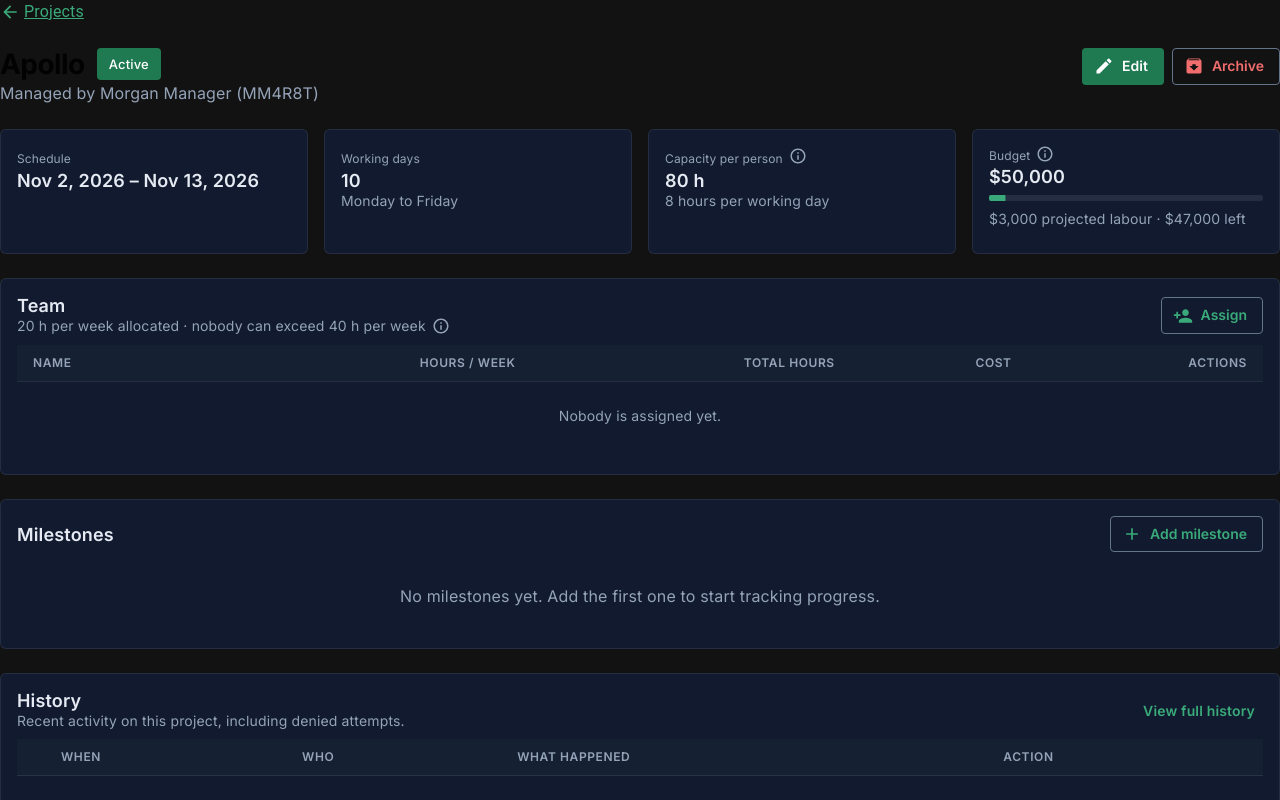
ProjectDetailPage › archives after confirmation and reloads
Click the button "Archive". click: point(1226, 66)
box: [1172, 48, 1279, 84]
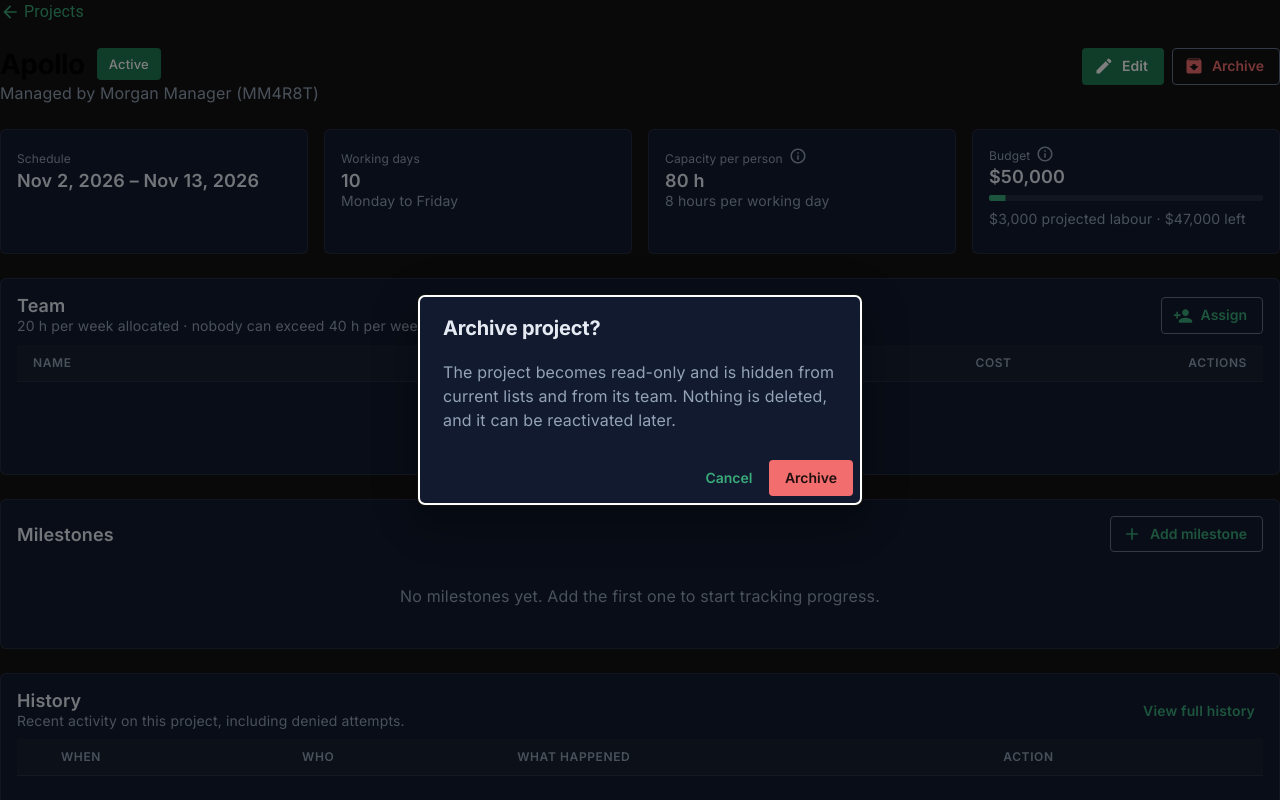
Click the button "Archive". click: point(811, 478)
box: [769, 460, 853, 496]
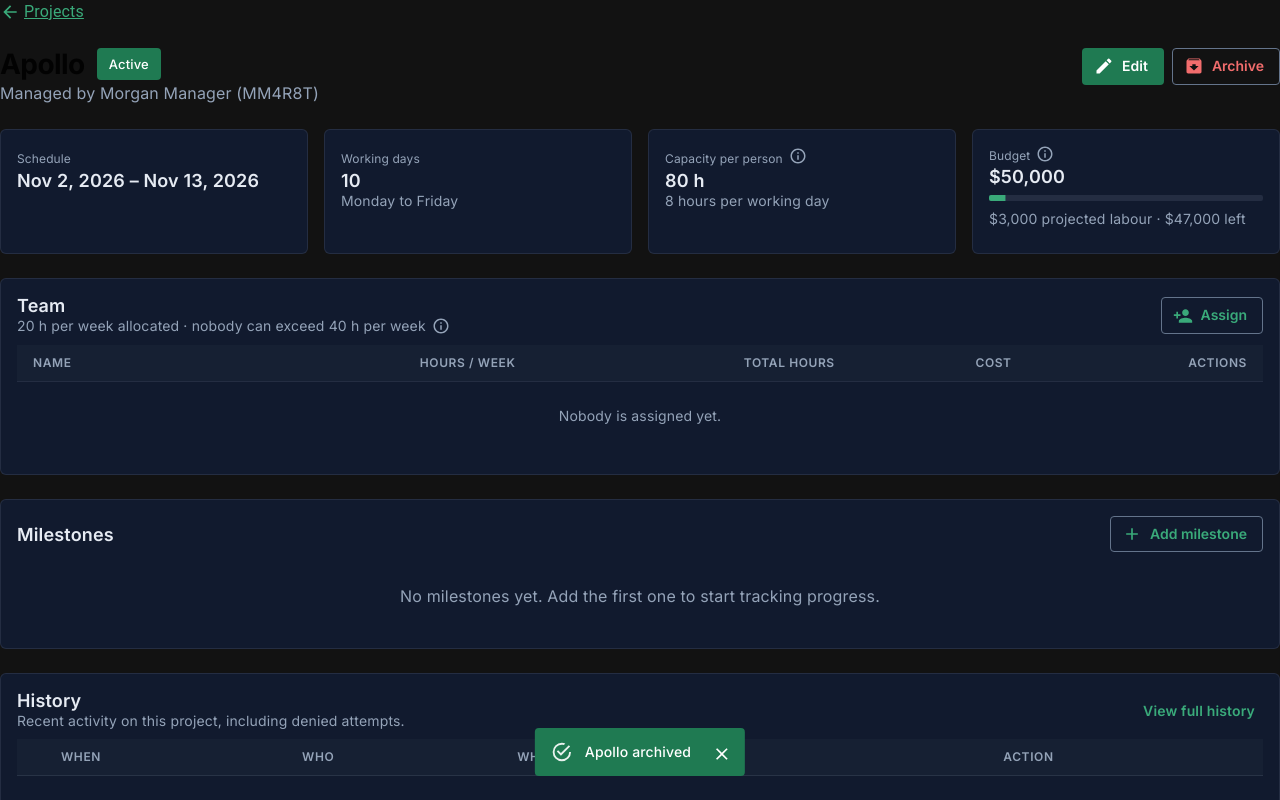
Now the text "Apollo archived" is shown, box [585, 743, 691, 760]
